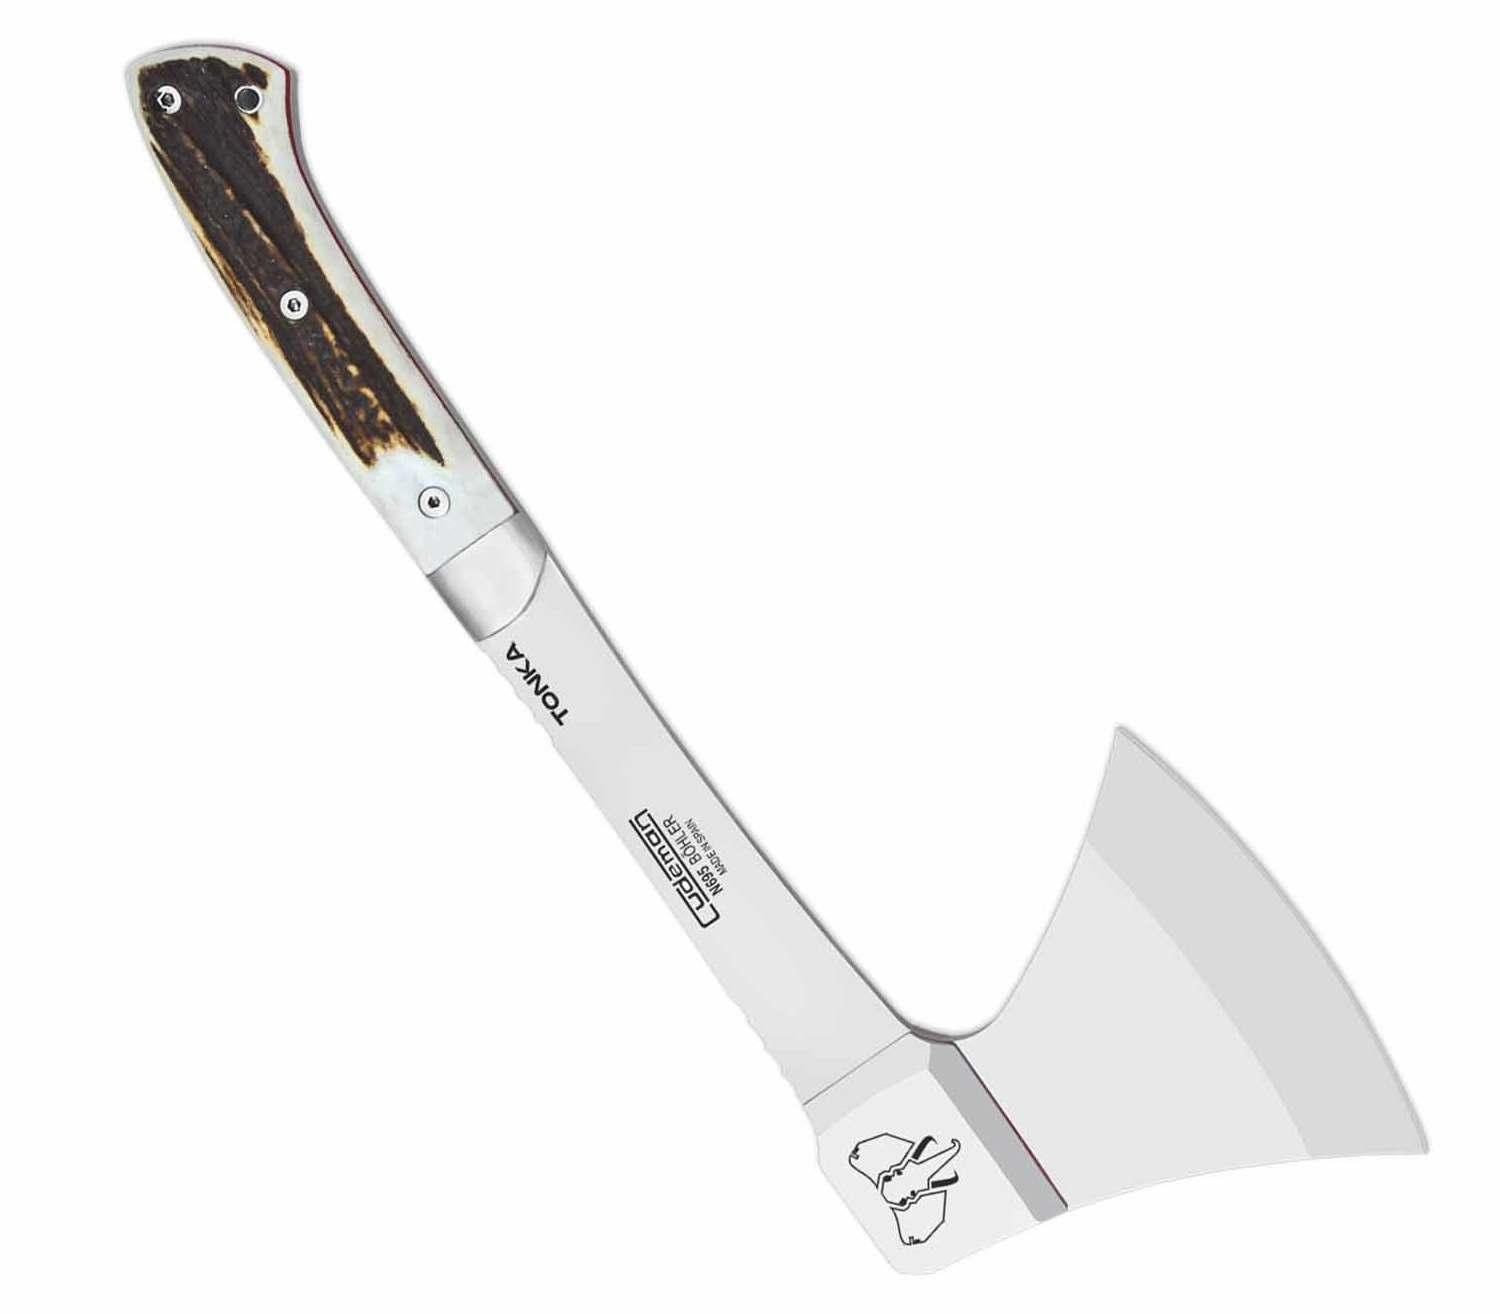machado: (126, 43, 1426, 1274)
